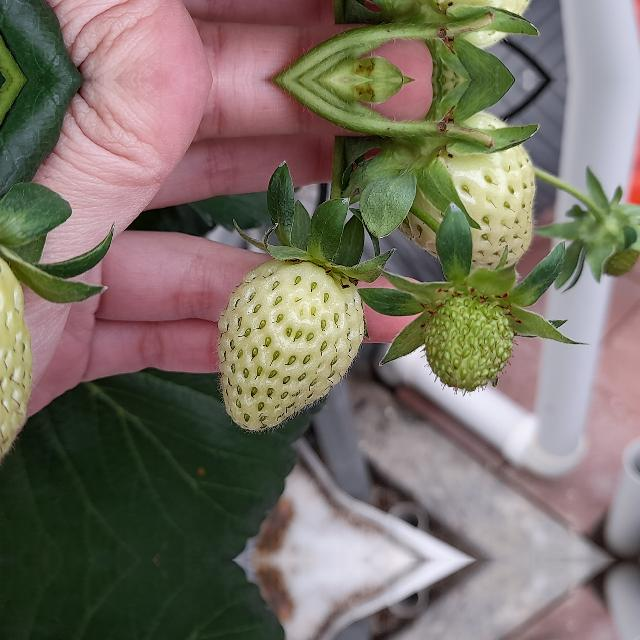Health_25: (391, 96, 537, 272), (216, 258, 364, 430), (411, 280, 515, 396), (391, 0, 537, 64)
